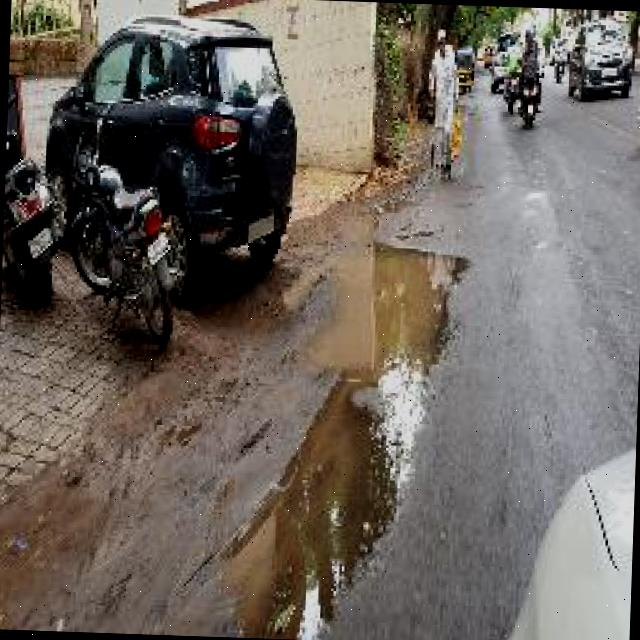stagnation: (197, 218, 478, 639)
